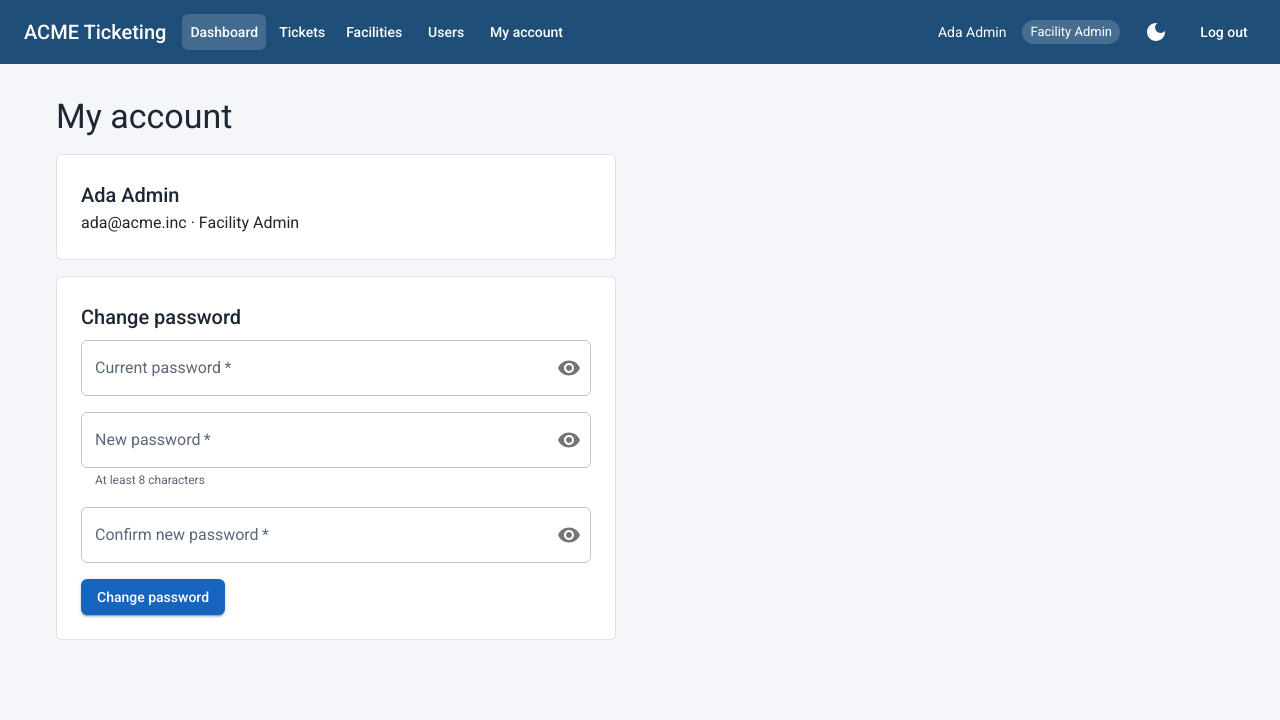
Test: AccountPage › says when it worked and empties the boxes
The image size is (1280, 720).
Type "password1" into the password field labelled "Current password *" at (311, 368), box [81,340,541,396]
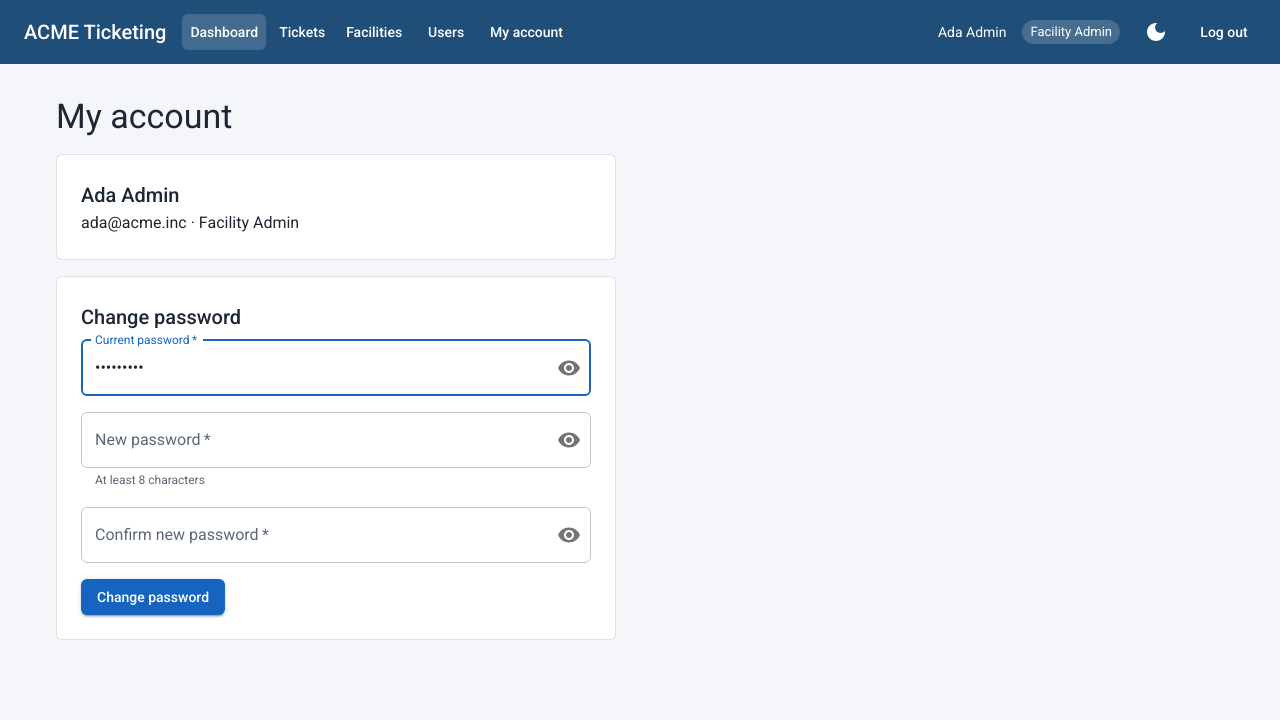
Type "newpass123" into the password field labelled "New password *" at (311, 440), box [81,412,541,468]
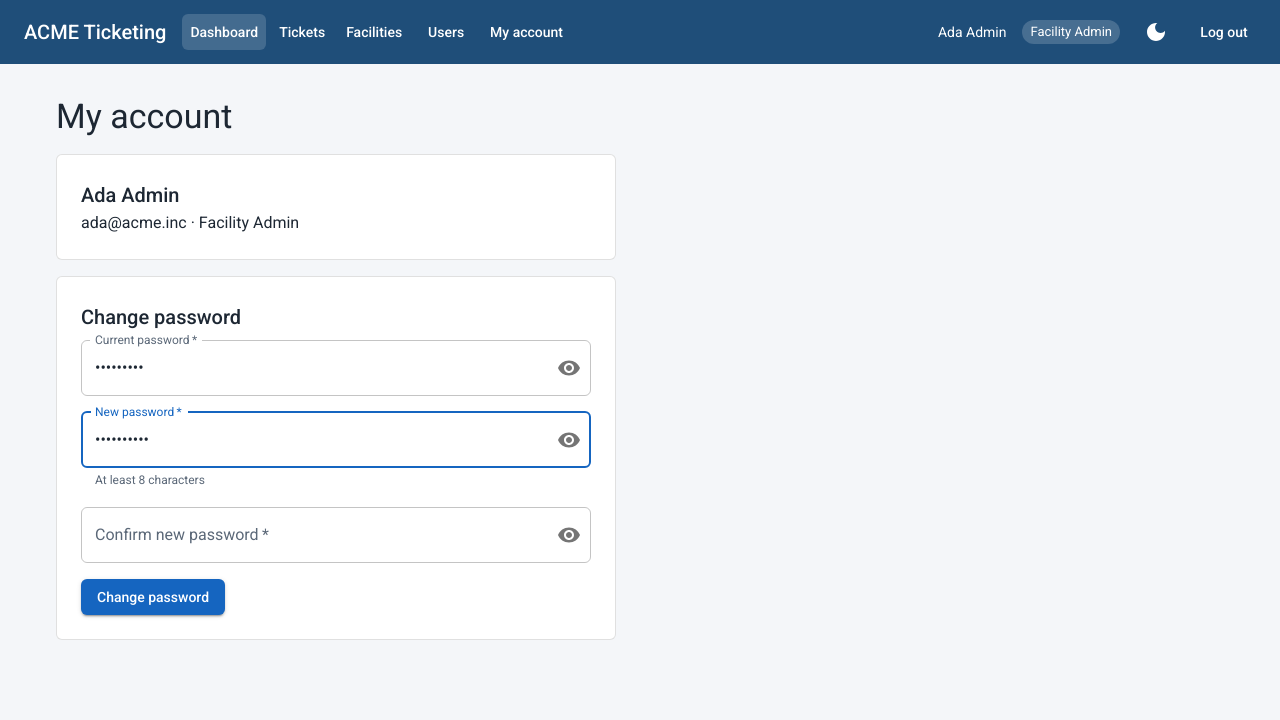
Type "newpass123" into the password field labelled "Confirm new password *" at (311, 535), box [81,507,541,563]
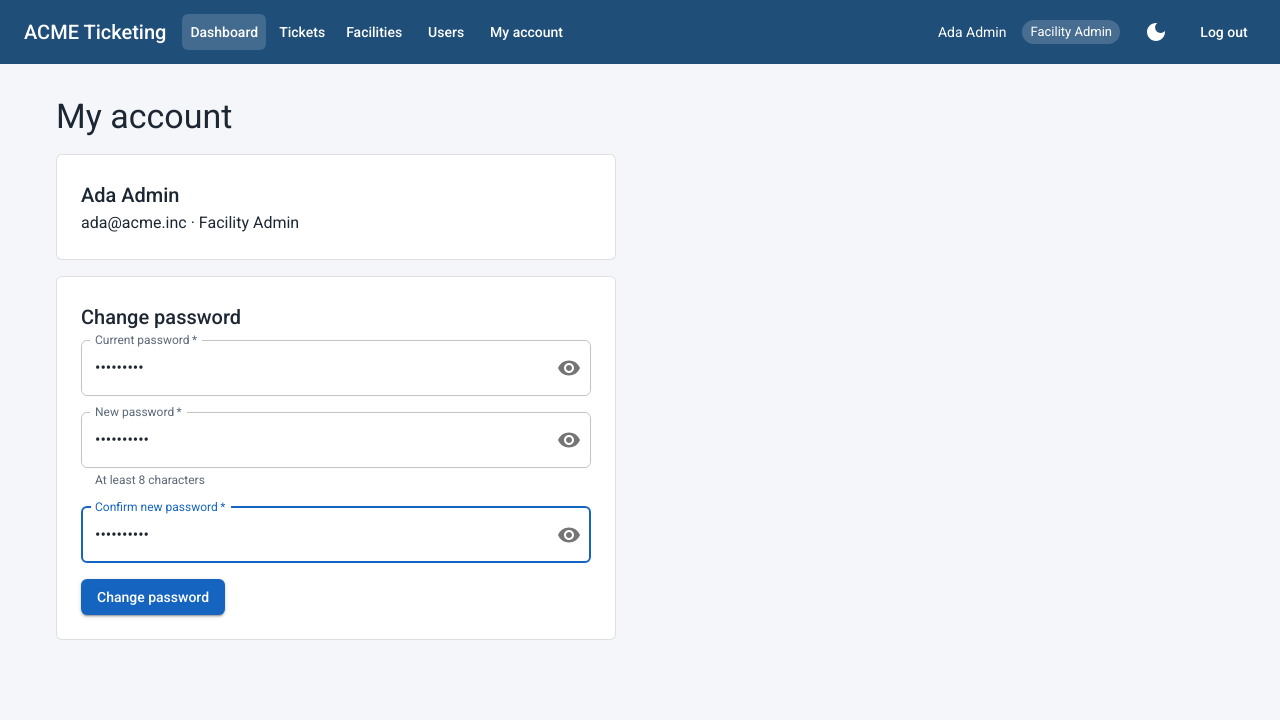
Click the button "Change password" at (153, 597), box [81,579,225,615]
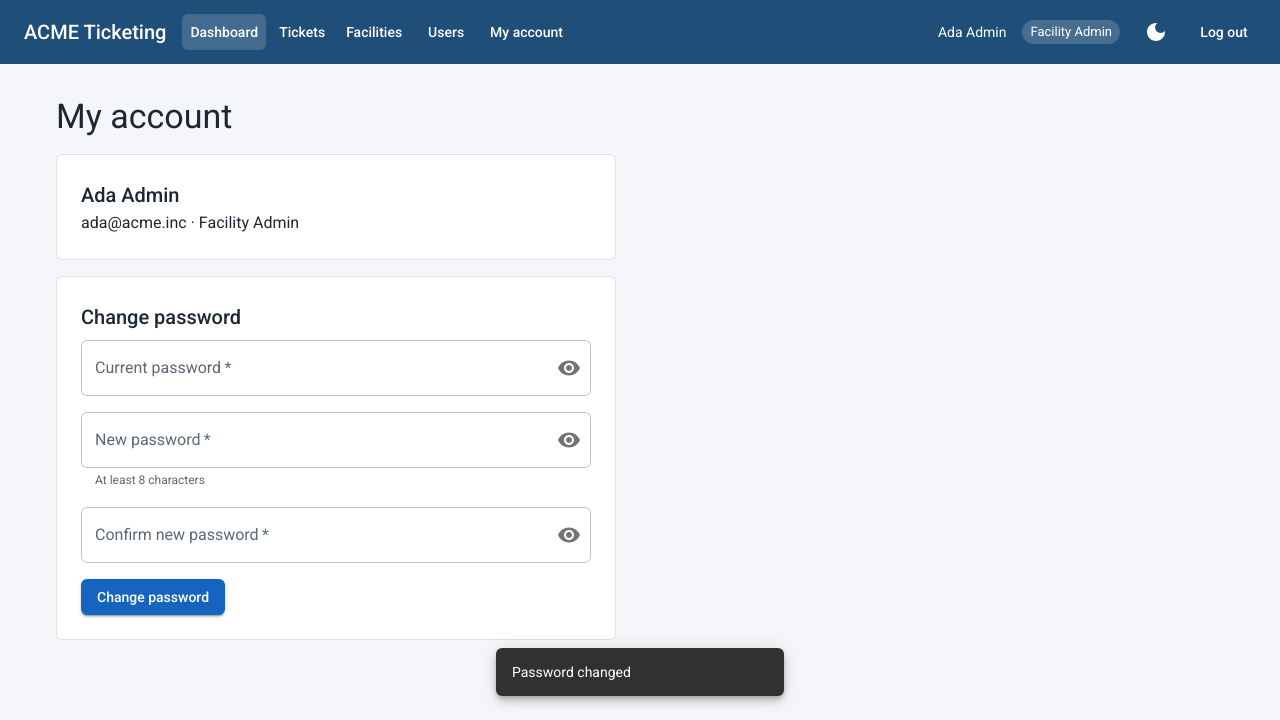
Now the text "Password changed" is shown, box [512,664,631,680]
Now the password field labelled "New password *" is empty, box [81,412,541,468]
